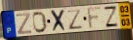F: (87, 6, 103, 31)
O: (32, 11, 49, 35)
X: (50, 9, 68, 34)
Z: (15, 12, 33, 35), (102, 5, 120, 28), (66, 9, 84, 31)
